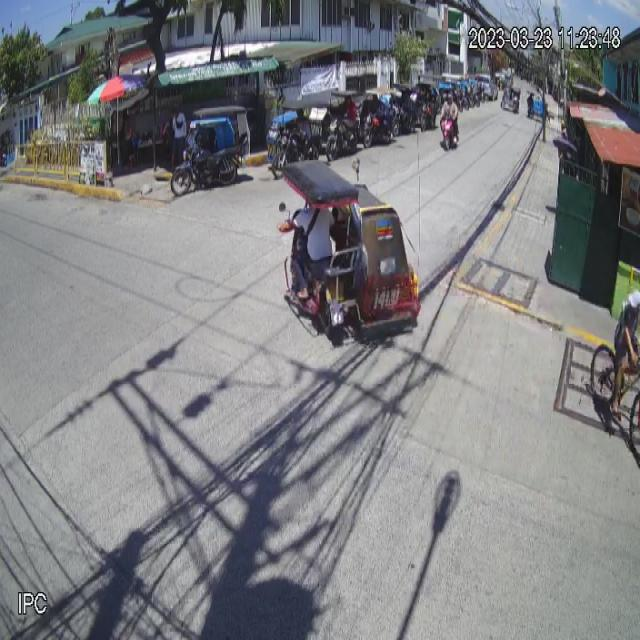Tricycle: (278, 158, 422, 342), (170, 106, 250, 196)
